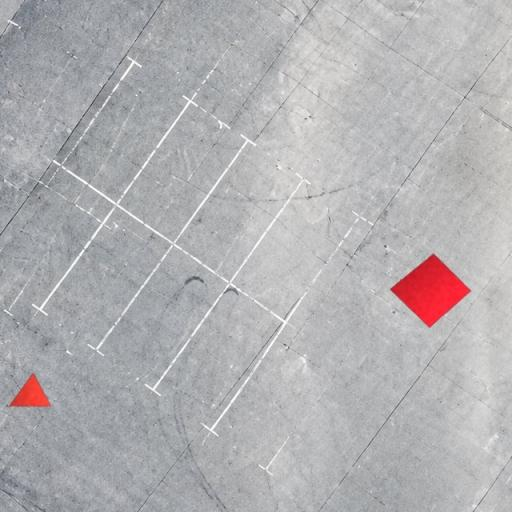RED_SQUARE: (389, 253, 472, 328)
